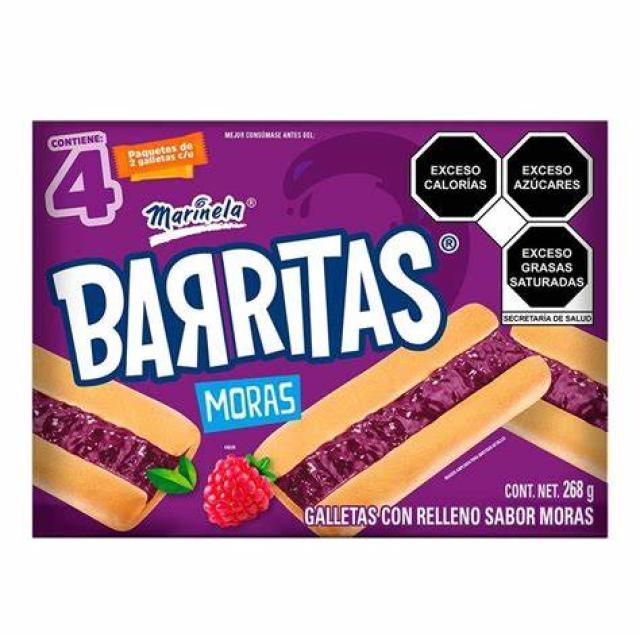Caja: (22, 100, 620, 550)
